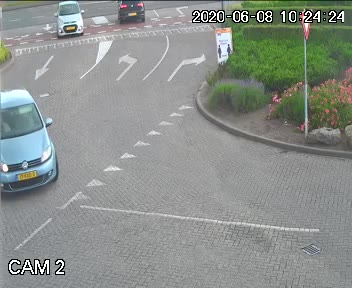car: (0, 81, 68, 202), (48, 0, 90, 43), (112, 0, 147, 28)
